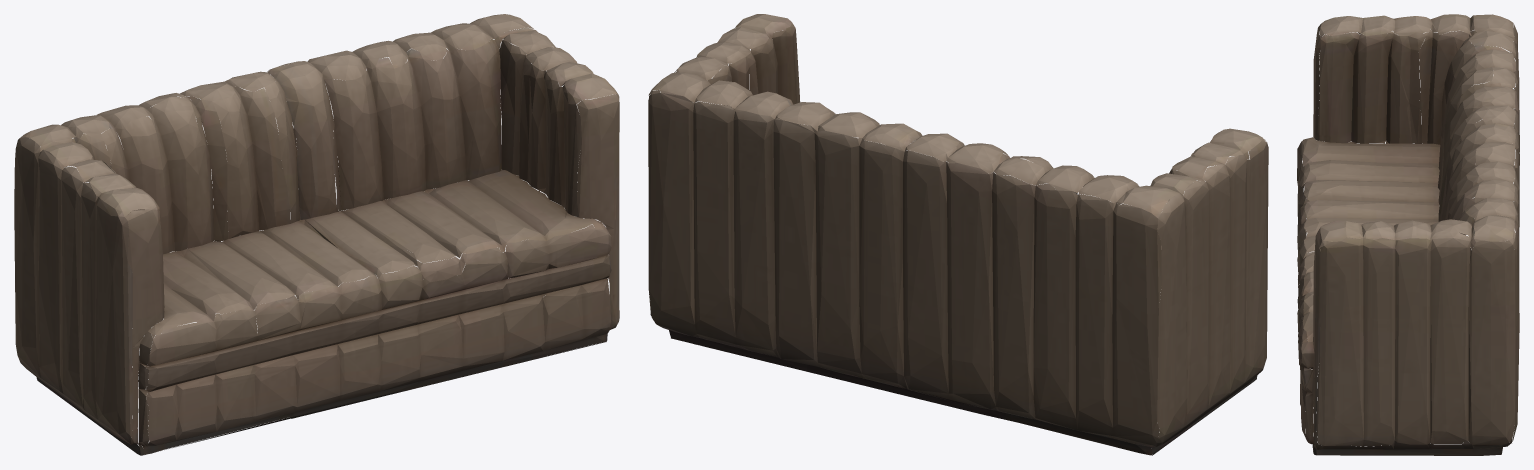
Rendered from c-canape-velours.glb.
The picture shows the model from 3 angles, left to right: view 1: azimuth 30°, elevation 25°; view 2: azimuth 150°, elevation 25°; view 3: azimuth 270°, elevation 25°; orthographic projection. The views are drawn at different scales.
Parts seen in each view (by area): view 1: geometry_0; view 2: geometry_0; view 3: geometry_0.
Boxes of the visible parts, x1=… form: geometry_0: x1=14, y1=14, x2=619, y2=455; geometry_0: x1=648, y1=14, x2=1268, y2=455; geometry_0: x1=1297, y1=14, x2=1519, y2=455.
Size of the model in its own units: 0.9987 by 0.4819 by 0.4171.
1 material, 1 textured.
